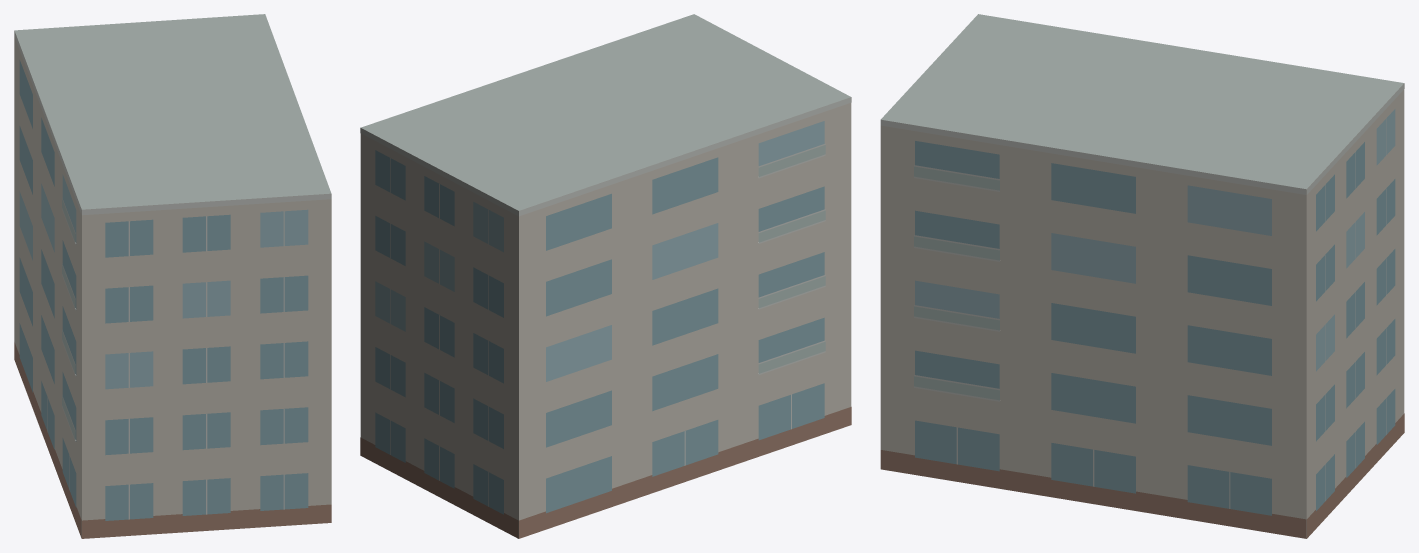
The model's file is survey-upis-32711057.glb.
3 renders of one model, left to right at view 1: azimuth 30°, elevation 25°; view 2: azimuth 150°, elevation 25°; view 3: azimuth 270°, elevation 25°, orthographic. The views are drawn at different scales.
Visible parts, largest first — view 1: survey-upis-32711057.tmp; view 2: survey-upis-32711057.tmp; view 3: survey-upis-32711057.tmp.
Part boxes in pixels (<box>): survey-upis-32711057.tmp: <box>14,14,331,538</box>; survey-upis-32711057.tmp: <box>360,14,851,538</box>; survey-upis-32711057.tmp: <box>880,14,1404,538</box>.
Size of the model in its own units: 15.6 by 14.5 by 19.7.
